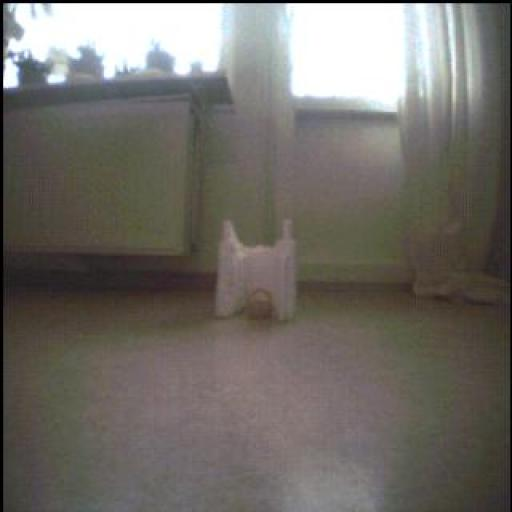Basket: (244, 289, 272, 323)
